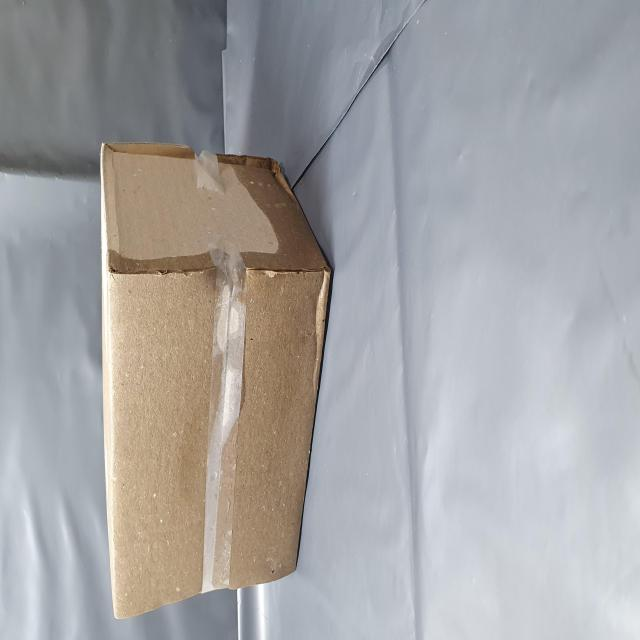wet: (28, 409, 272, 579), (15, 197, 220, 391)
